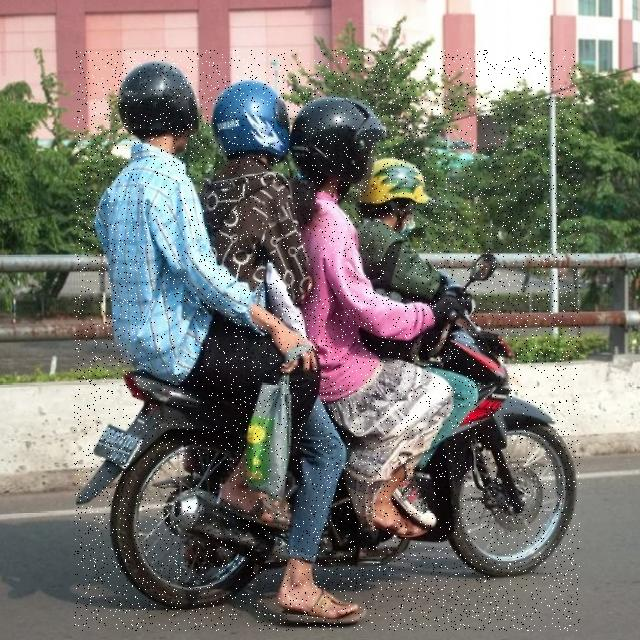With Helmet: (74, 50, 580, 631)
